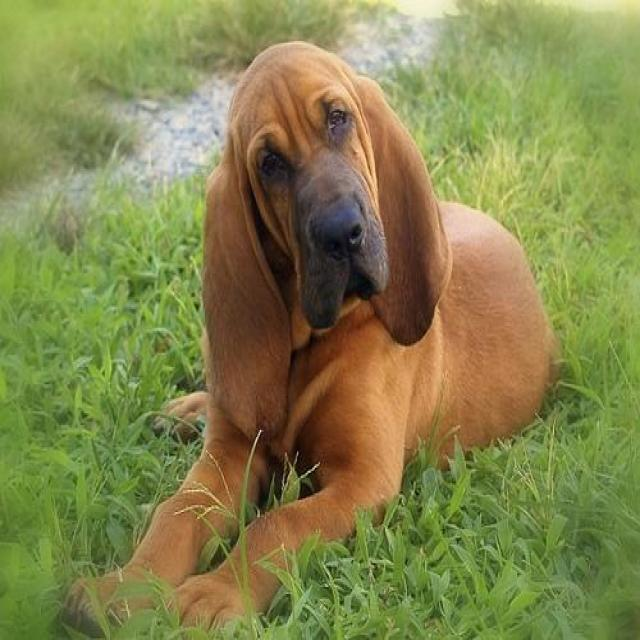bloodhound: (55, 39, 566, 638)
